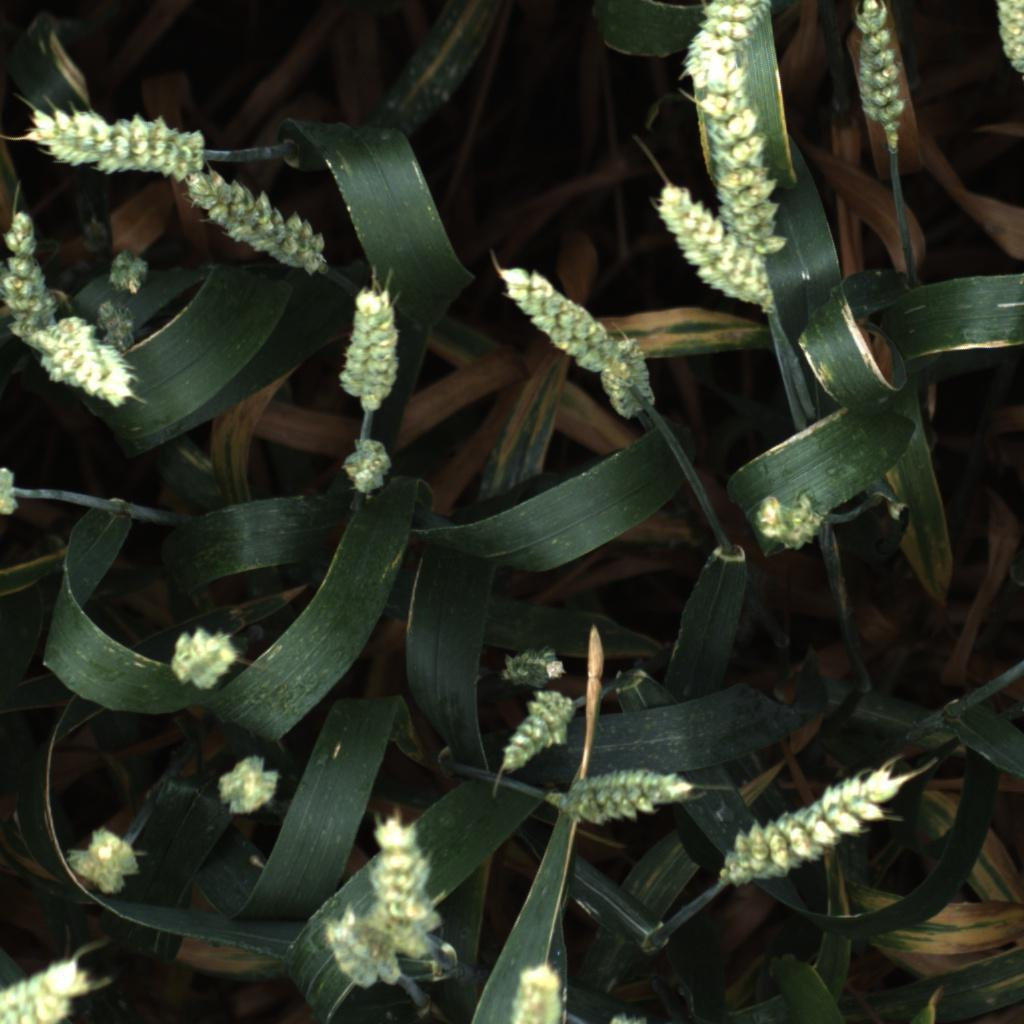0-0: (720, 763, 902, 889), (686, 35, 793, 231), (642, 176, 780, 312), (20, 101, 213, 181), (495, 256, 613, 386), (185, 170, 327, 277), (369, 813, 442, 956), (30, 317, 139, 411), (0, 212, 66, 360), (552, 763, 694, 831), (335, 281, 406, 408), (321, 906, 424, 991), (676, 0, 783, 77), (849, 0, 911, 129), (492, 691, 577, 778), (744, 485, 832, 553), (165, 622, 245, 693), (0, 957, 84, 1024), (213, 746, 285, 820), (601, 336, 663, 421), (67, 827, 141, 898), (495, 958, 567, 1024), (338, 435, 393, 501), (99, 244, 158, 302), (983, 0, 1024, 80), (498, 645, 571, 688), (85, 296, 144, 349)
